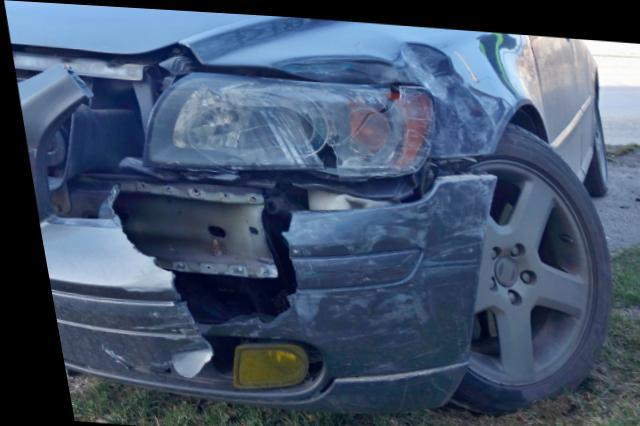crack: (102, 187, 288, 334)
dent: (267, 38, 510, 153)
lamp broken: (137, 69, 433, 173)
scratch: (277, 167, 489, 337)
